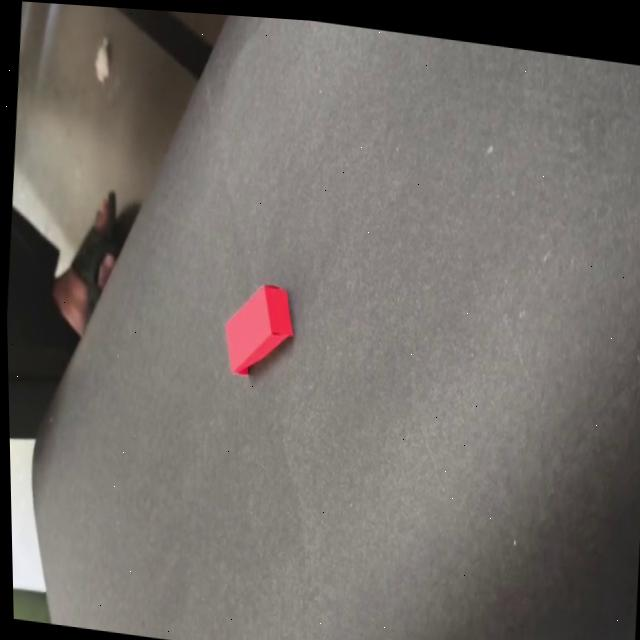red block: (219, 274, 298, 382)
